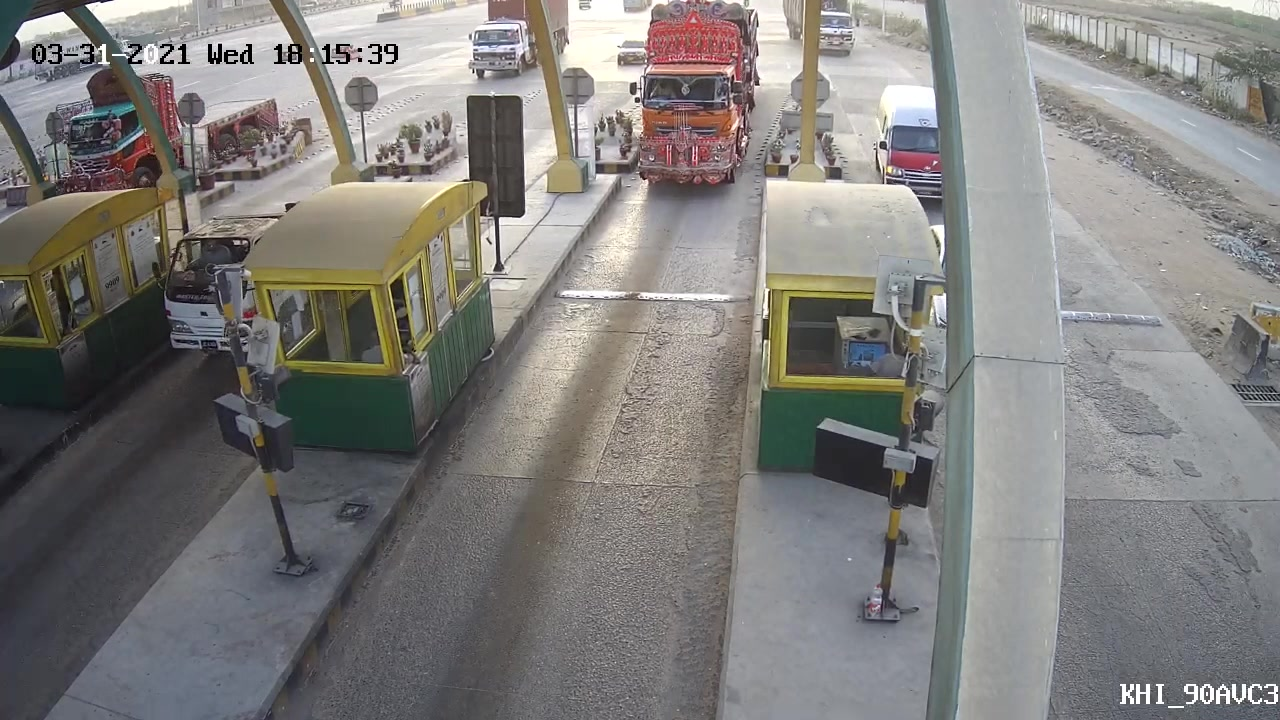F5: (626, 20, 760, 194)
